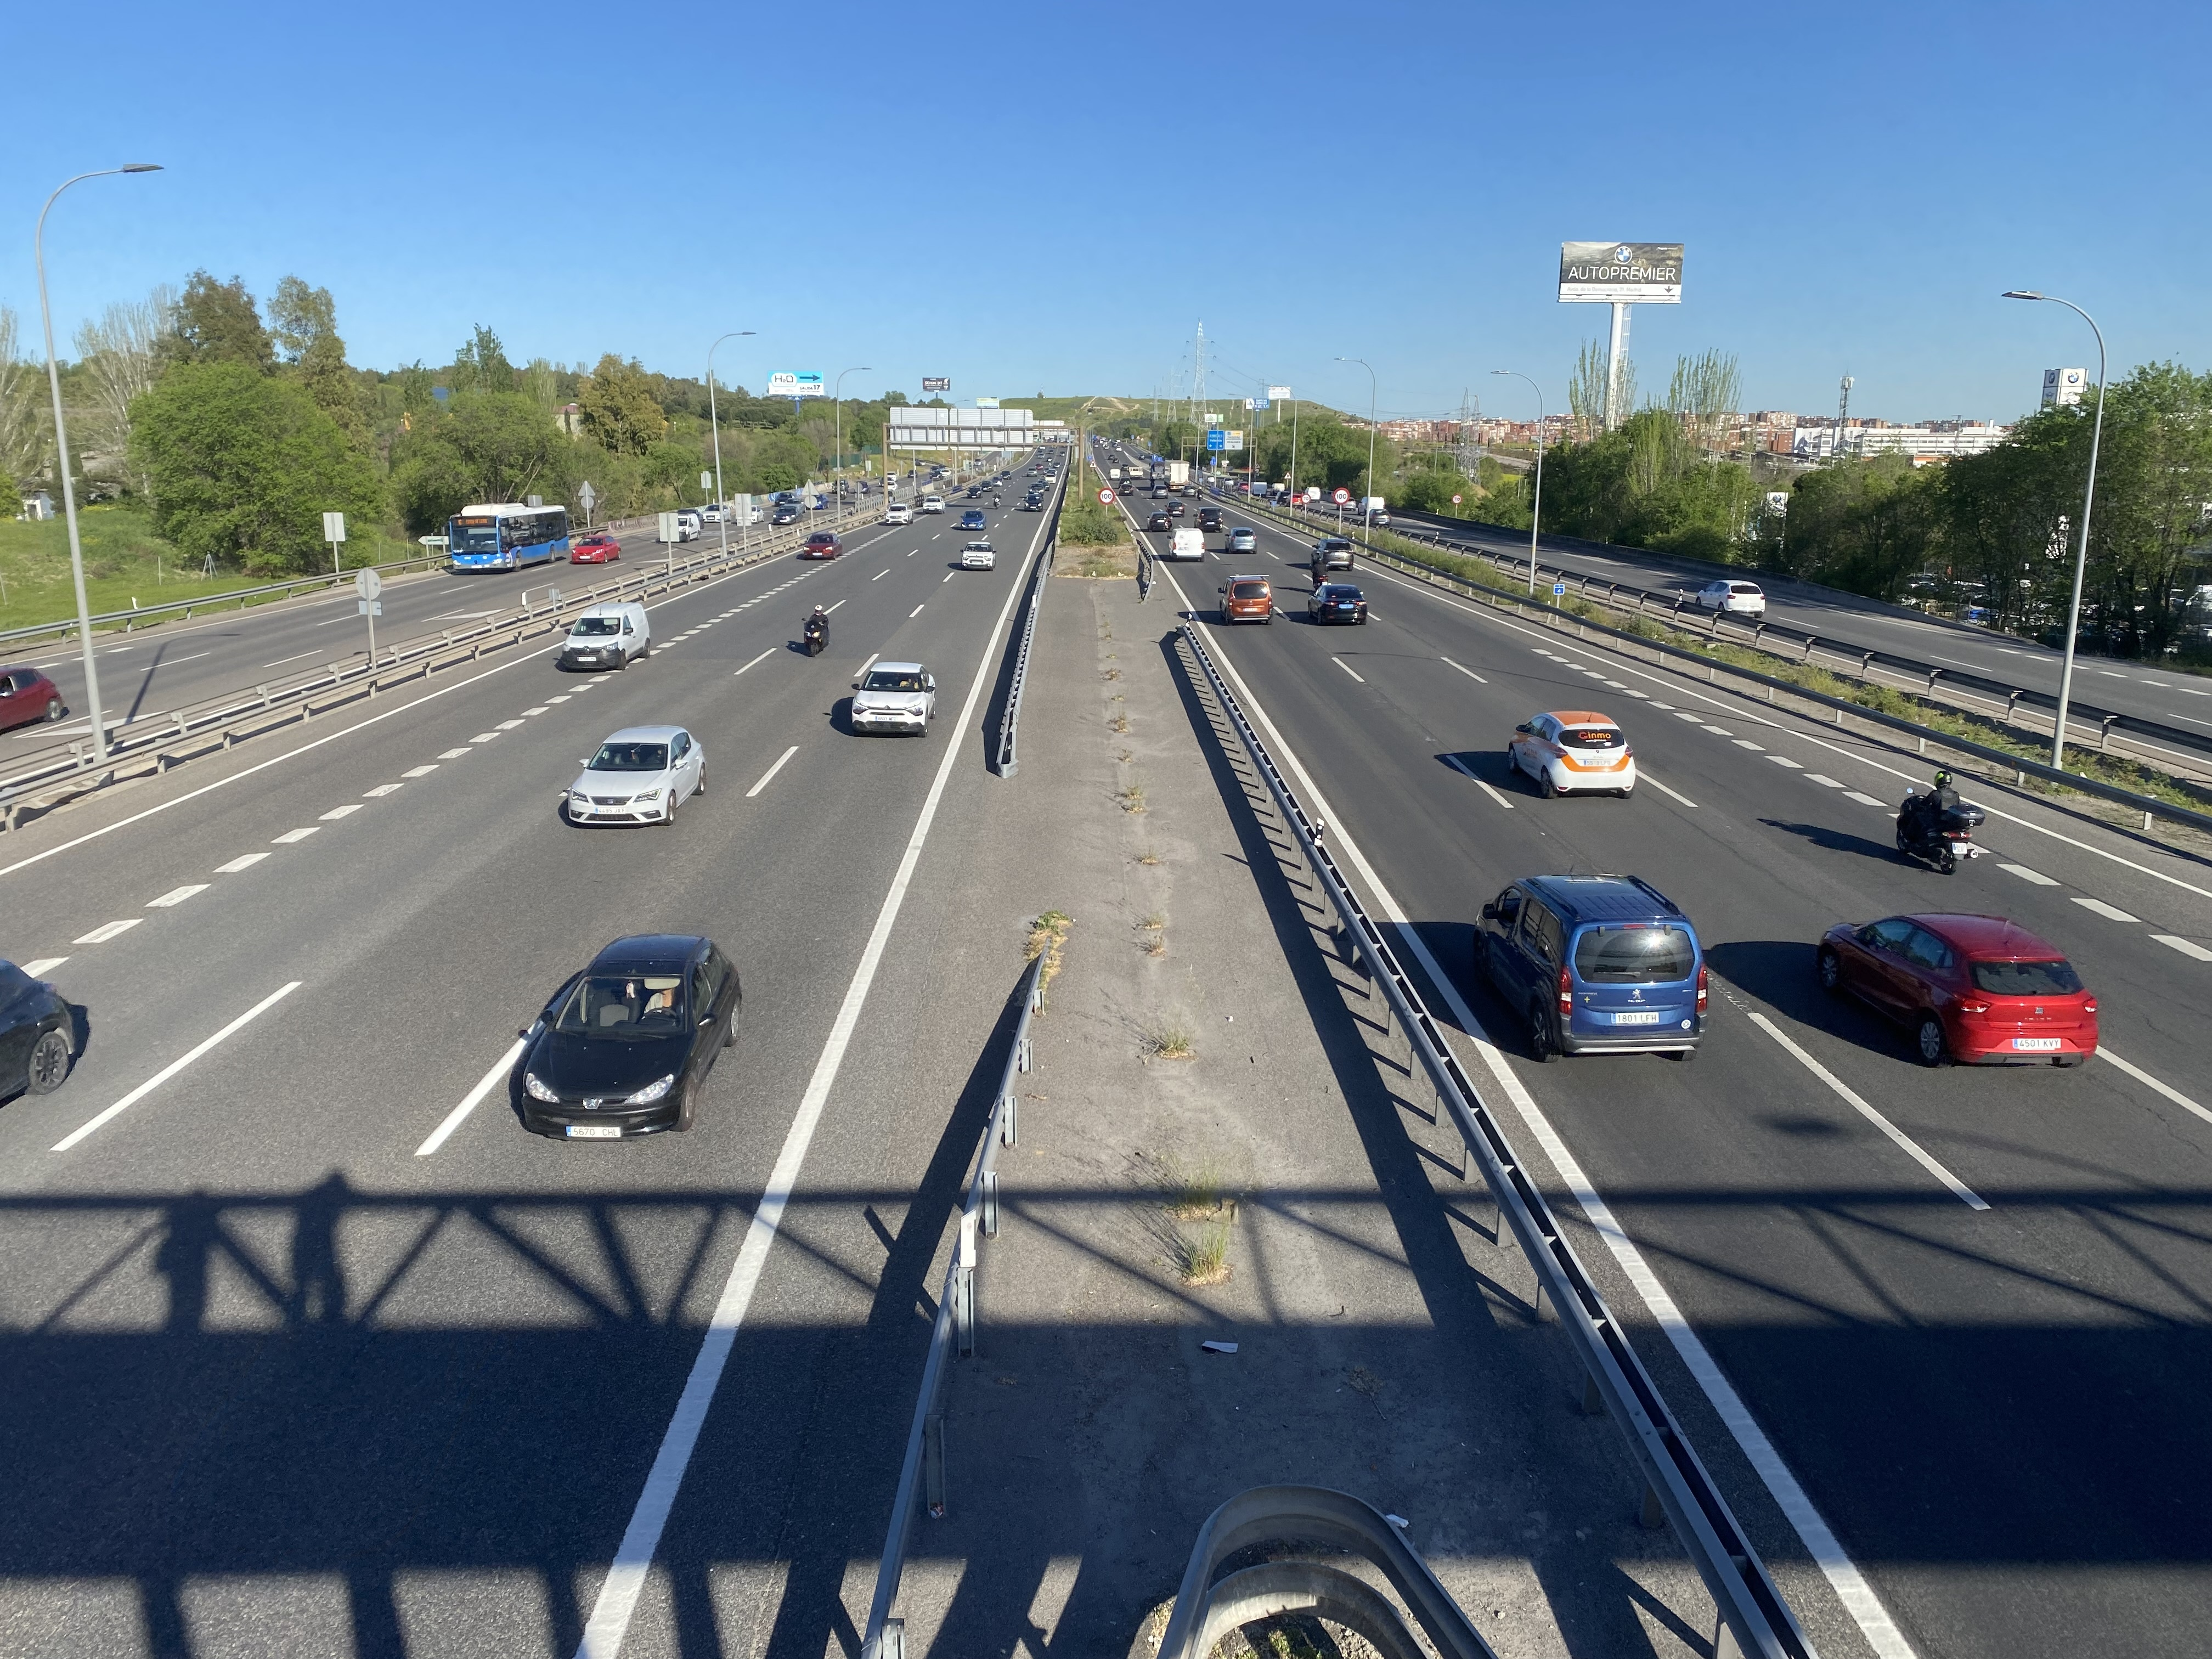cars: (512, 934, 742, 1140), (1474, 875, 1709, 1058), (1817, 913, 2097, 1065), (563, 725, 705, 824), (1508, 711, 1637, 798), (852, 660, 935, 735), (559, 603, 650, 669), (0, 667, 66, 730), (1679, 579, 1766, 619), (1221, 575, 1273, 624), (1308, 582, 1367, 624), (1310, 537, 1355, 579), (570, 533, 620, 565), (796, 532, 843, 559), (1170, 528, 1205, 559), (958, 540, 995, 570), (1224, 526, 1256, 554), (881, 500, 913, 525), (1197, 507, 1221, 532), (960, 509, 986, 532), (1019, 490, 1045, 511), (921, 491, 946, 512), (1148, 511, 1170, 532), (1167, 500, 1184, 519)
